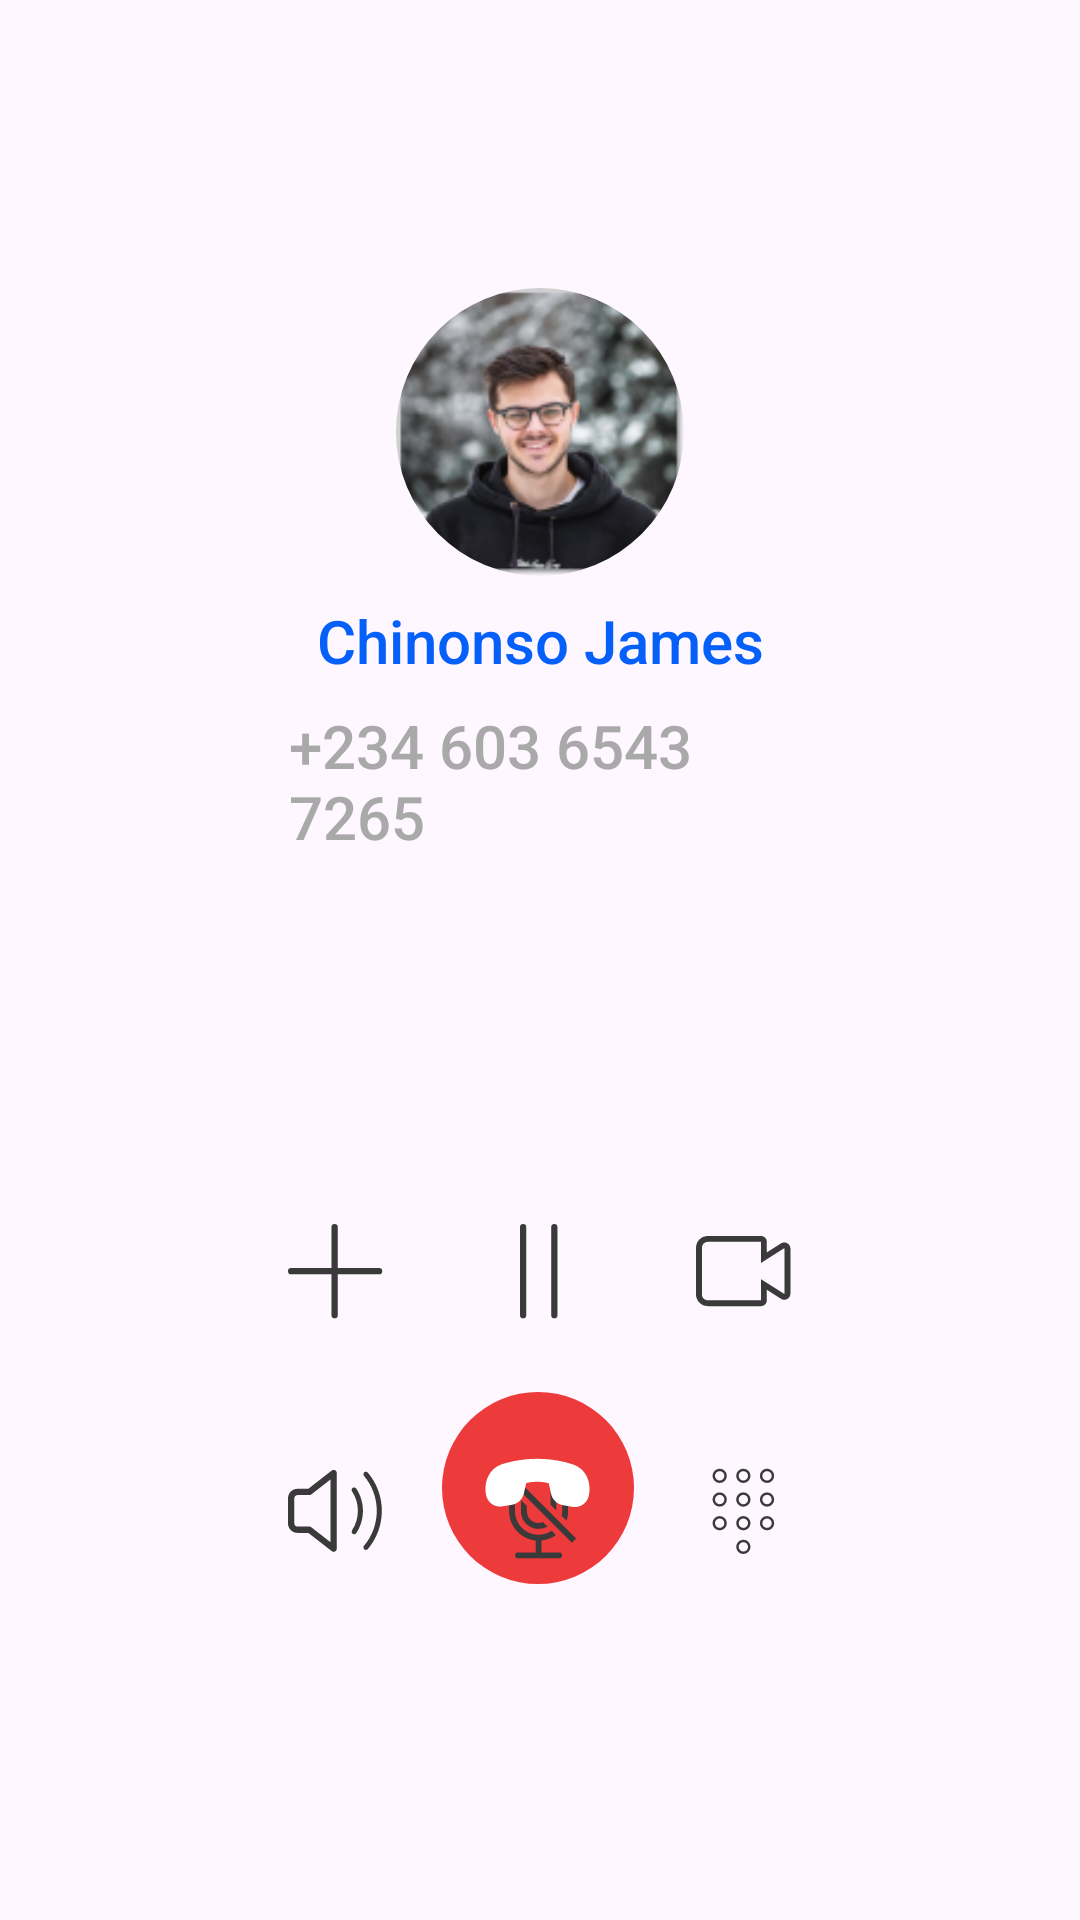

Point at icon controls on the screen. Image size 1080×1920, points as [x,y].
Buttons icon: [743,1511]
Camera icon: [743,1271]
Pause icon: [539,1271]
Plus icon: [335,1271]
Speaker icon: [335,1511]
